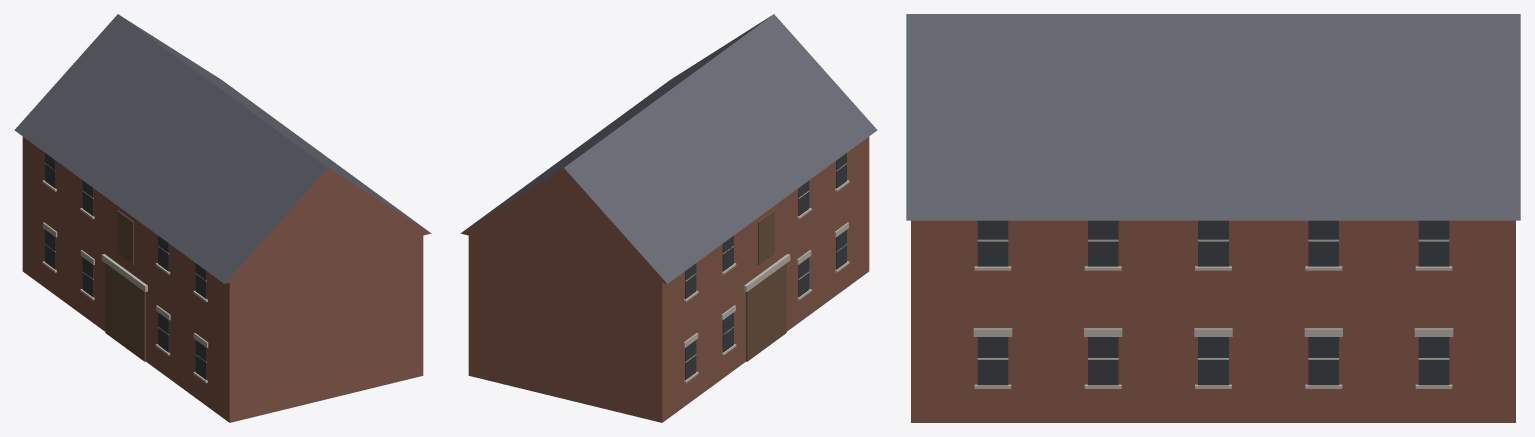
The model's file is house_1932_calumet_coach_house__draft_1904.glb.
3 views of the same model, side by side, from view 1: azimuth 30°, elevation 25°; view 2: azimuth 150°, elevation 25°; view 3: azimuth 270°, elevation 25° (orthographic). The views are drawn at different scales.
Parts seen in each view (by area): view 1: house_1932_calumet_coach_house__draft_1904; view 2: house_1932_calumet_coach_house__draft_1904; view 3: house_1932_calumet_coach_house__draft_1904.
Boxes of the visible parts, x1,y1,x2,y2 form: house_1932_calumet_coach_house__draft_1904: [14, 14, 431, 422]; house_1932_calumet_coach_house__draft_1904: [460, 14, 877, 422]; house_1932_calumet_coach_house__draft_1904: [906, 14, 1520, 422].
Size of the model in its own units: 9.1 by 9.77 by 15.99.
